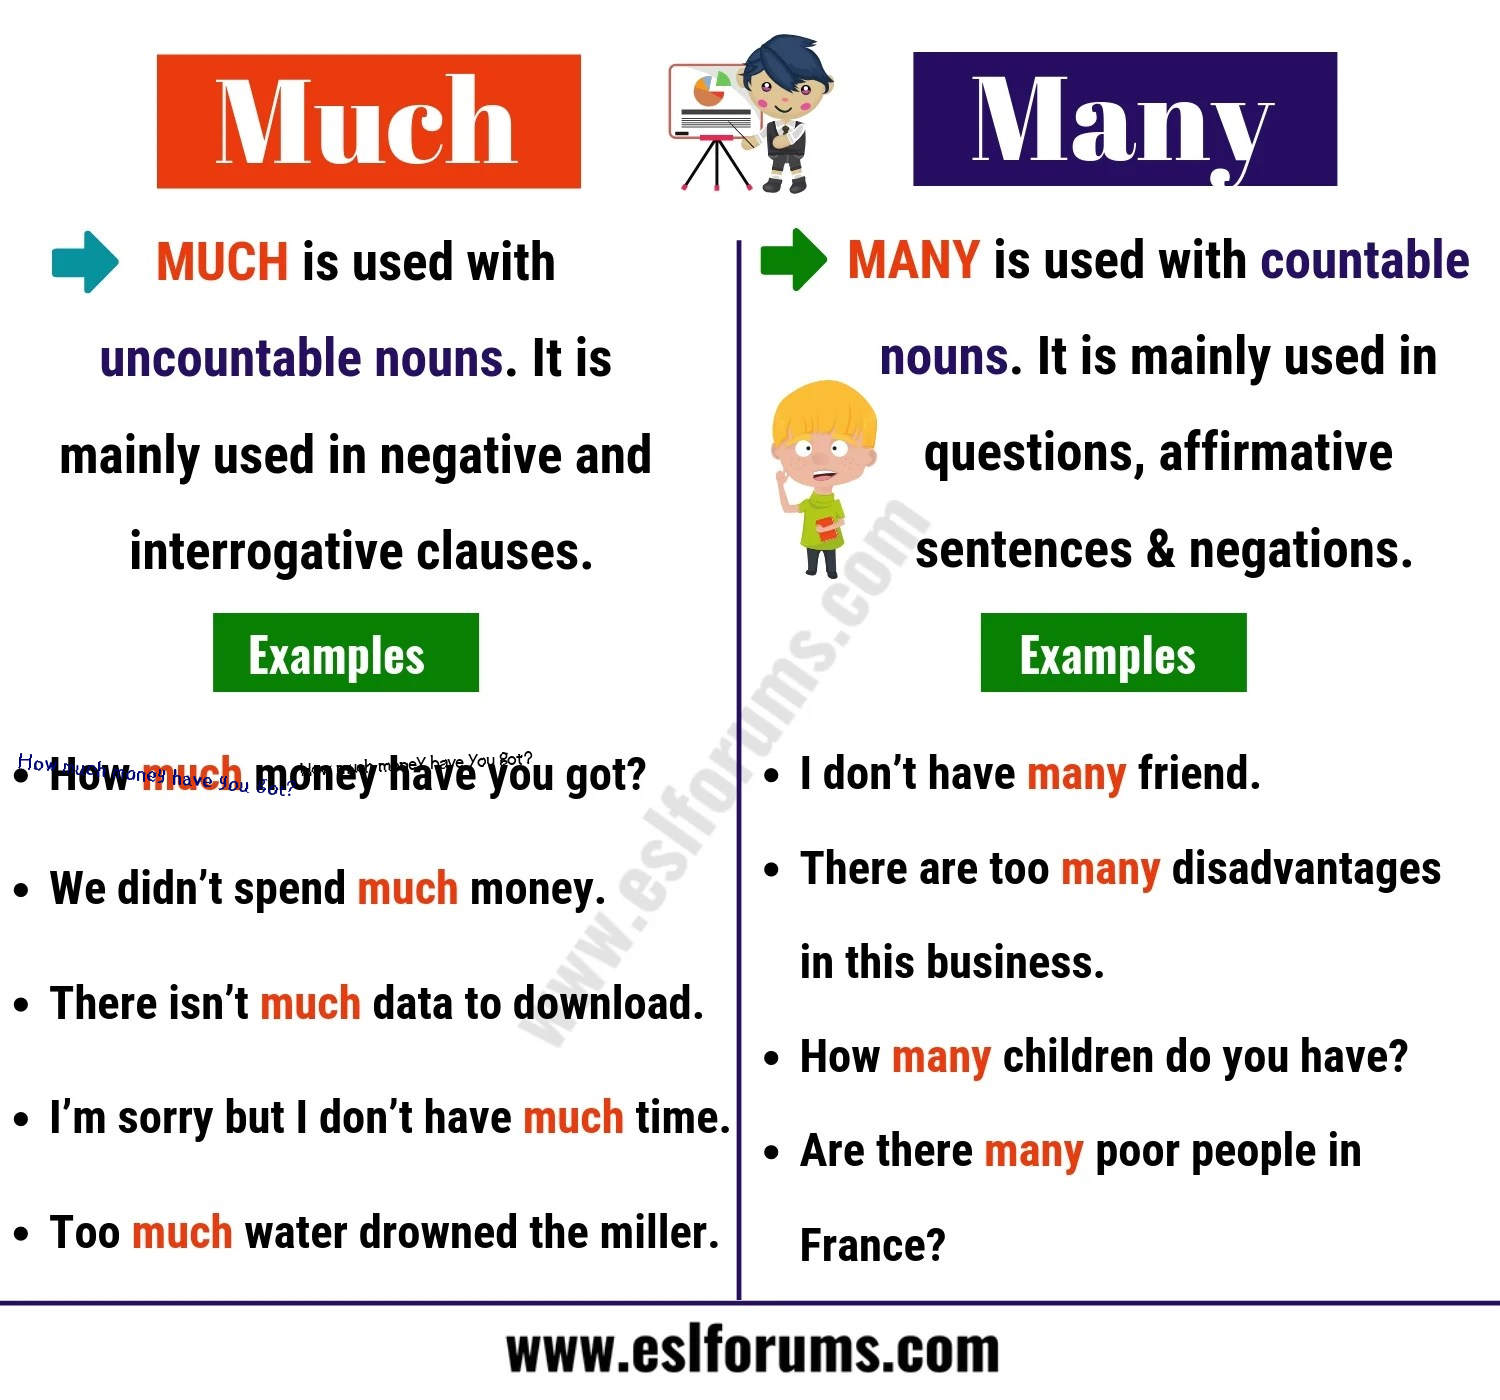h_text: (17, 741, 297, 797), (299, 741, 534, 779)
